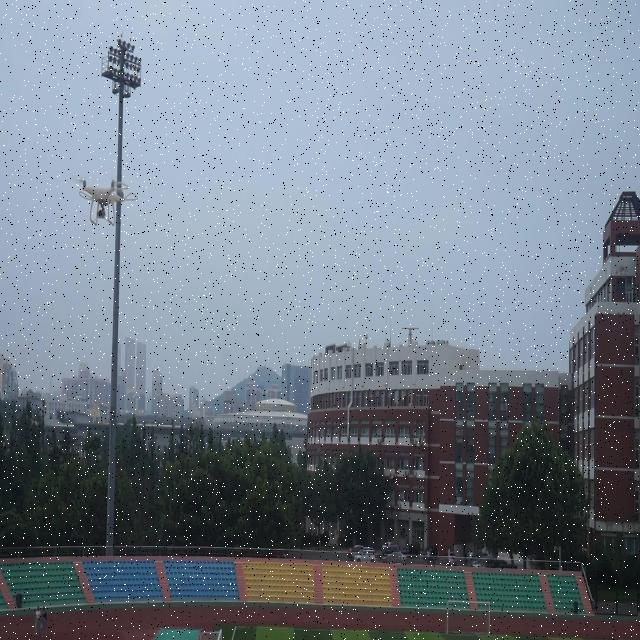UAV: (77, 178, 138, 228)
